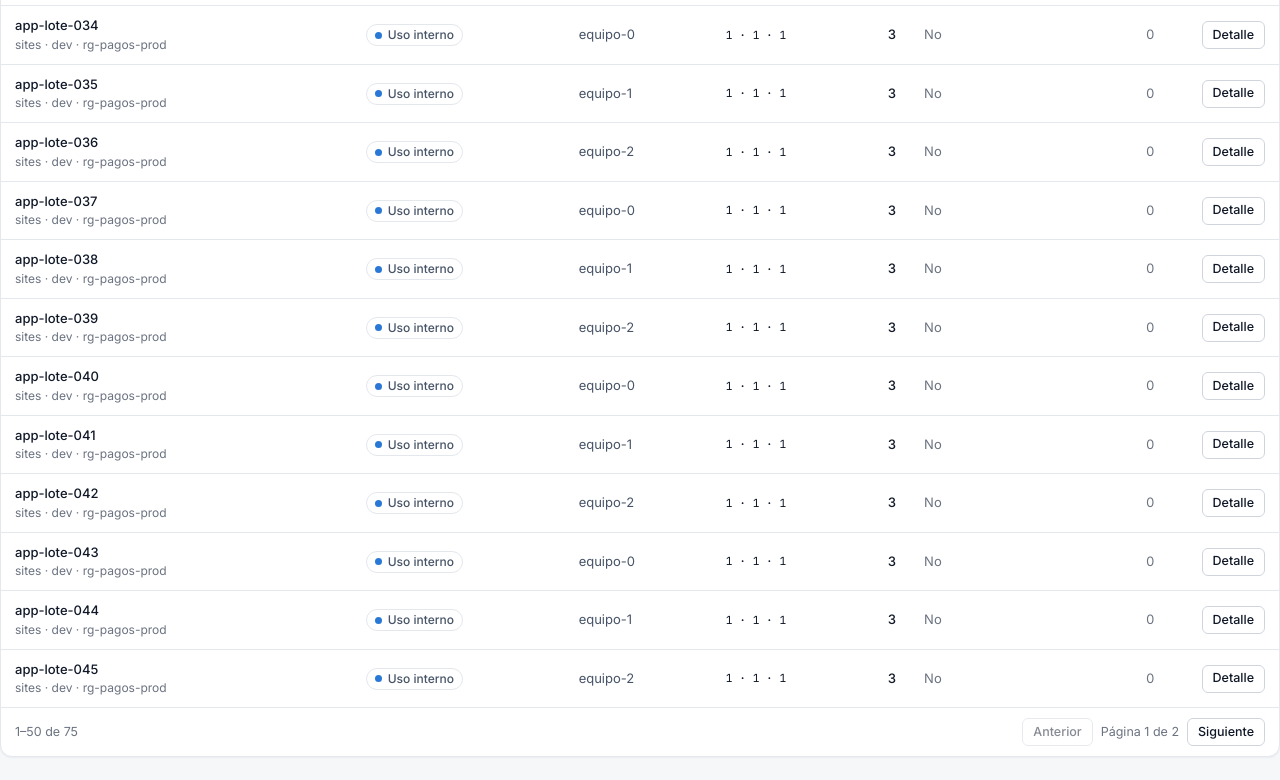
Test: Clasificación de activos › pagina de 50 en 50 y vuelve a la primera página al filtrar
(page scrolled)
Check: the text "1–50 de 75" is shown, box [15,723,78,742]
Click the button "Siguiente".
click(1226, 732)  # box [1187,718,1265,746]
(page scrolled)
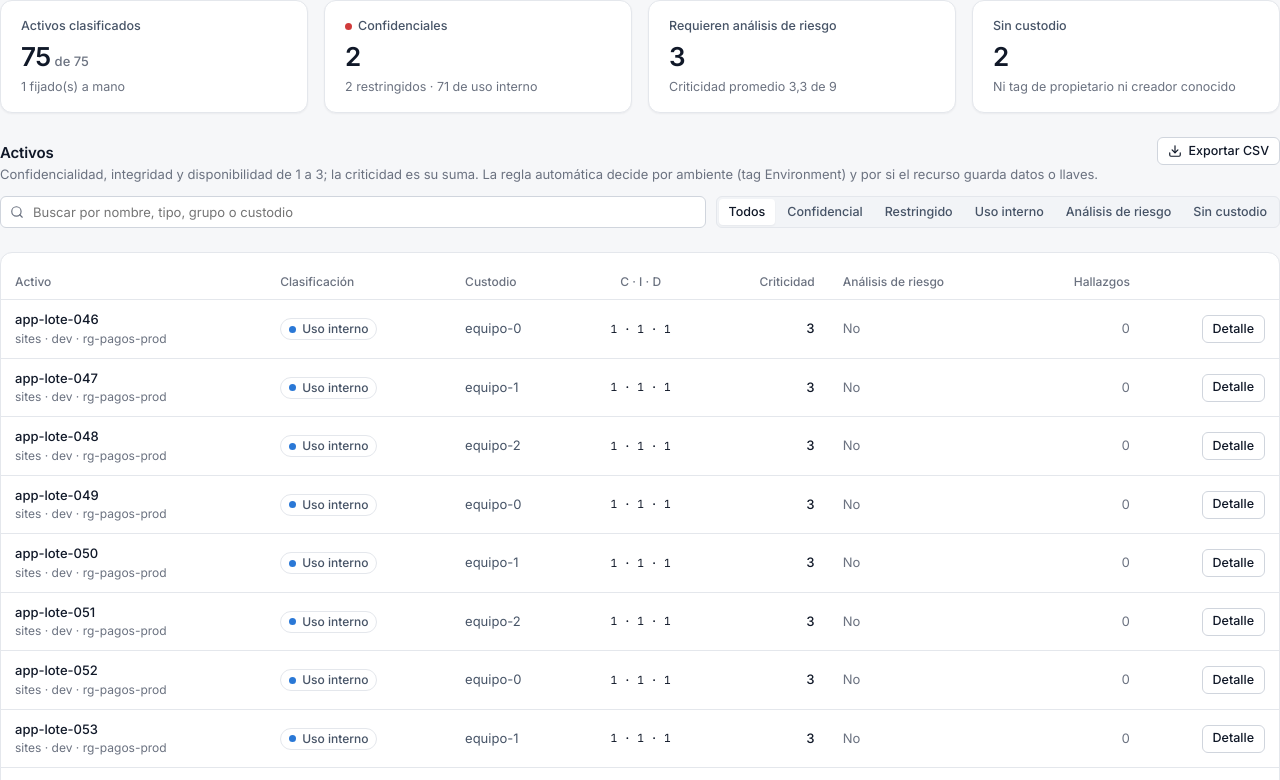
Type "lote-07" into the field with placeholder "Buscar por nombre, tipo, grupo o custodio".
click(353, 212); type("lote-07")  # box [0,196,706,228]
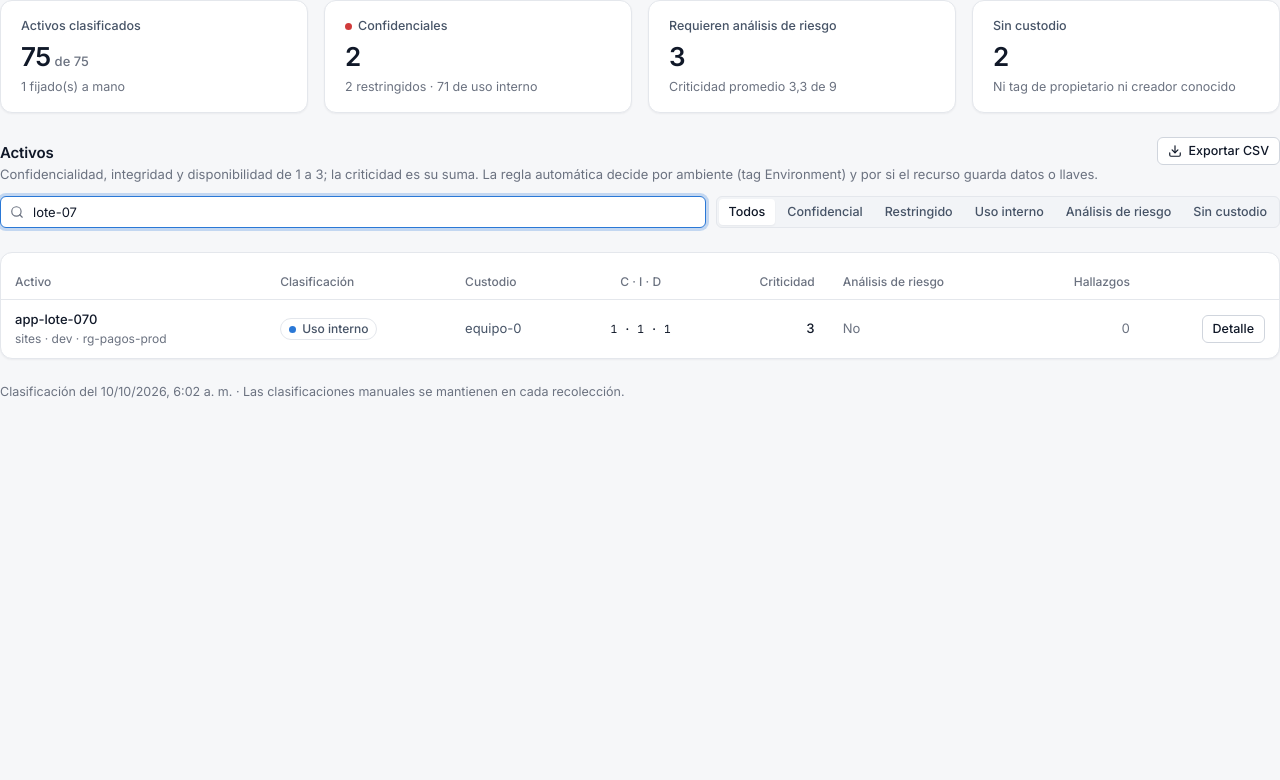
Check: the button "Siguiente" is not shown
Check: the number of rows is 2, box [1,265,1279,300]; [1,300,1279,358]
